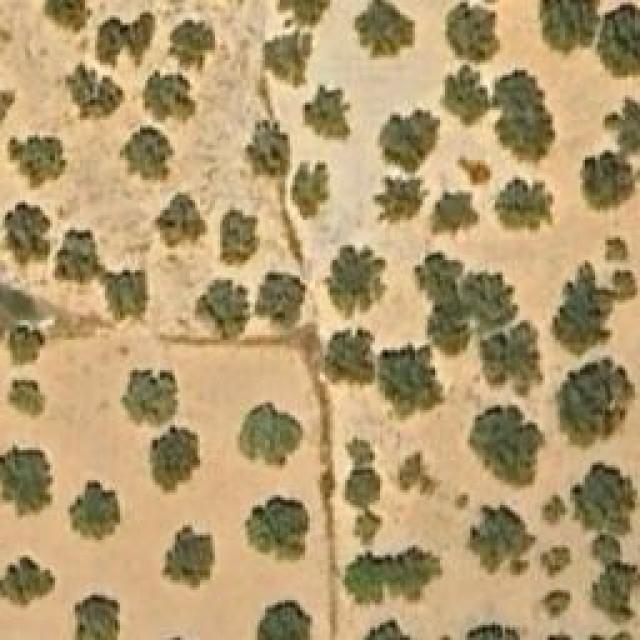Tree: (418, 253, 518, 356), (545, 355, 638, 453), (550, 260, 640, 358), (468, 405, 548, 493), (493, 70, 556, 160), (378, 343, 443, 420), (323, 245, 388, 320), (467, 503, 535, 573), (480, 323, 543, 398), (238, 402, 303, 470), (245, 495, 310, 560), (55, 60, 125, 118), (0, 445, 52, 520), (148, 425, 202, 496), (353, 0, 416, 60), (383, 110, 443, 173), (493, 175, 553, 238), (538, 0, 601, 58), (160, 525, 215, 590), (575, 470, 630, 535), (595, 2, 640, 80), (582, 153, 640, 213), (68, 480, 121, 545), (445, 2, 503, 60), (243, 115, 294, 180), (0, 290, 45, 363), (123, 368, 180, 425), (325, 328, 379, 386), (10, 135, 68, 188), (303, 85, 356, 143), (0, 555, 55, 610), (198, 280, 248, 340), (98, 13, 153, 66), (153, 195, 208, 248), (255, 273, 308, 328), (2, 203, 50, 263), (442, 65, 490, 125), (143, 70, 196, 123), (390, 547, 439, 604), (425, 190, 480, 240), (125, 128, 173, 181), (55, 230, 103, 283), (102, 270, 150, 323), (590, 565, 638, 618), (220, 203, 260, 266), (265, 33, 310, 88), (602, 98, 640, 163), (70, 592, 120, 640), (290, 160, 330, 218), (344, 553, 386, 608), (170, 20, 215, 70), (375, 178, 420, 228), (258, 600, 313, 640), (398, 450, 443, 495), (340, 465, 380, 508), (42, 0, 92, 32), (8, 380, 48, 420), (355, 620, 433, 640), (280, 0, 333, 25), (353, 508, 383, 551), (590, 532, 623, 566), (458, 155, 493, 185), (538, 495, 568, 529), (540, 590, 573, 620), (344, 435, 374, 468), (540, 548, 572, 577), (605, 235, 630, 263), (0, 90, 15, 128)
